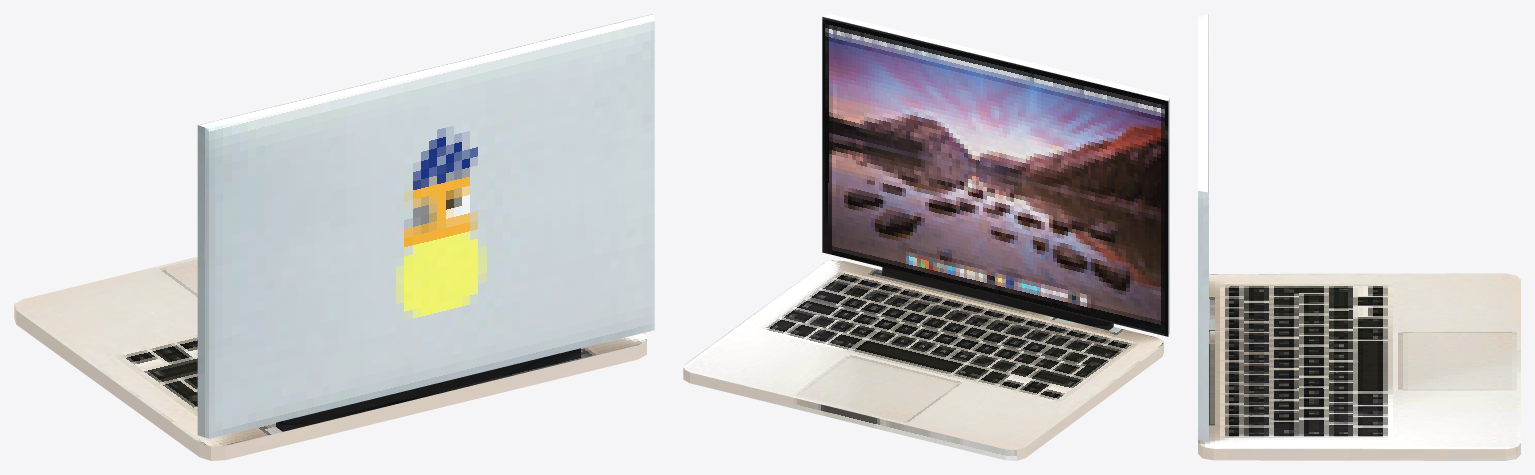
The model's file is macbook_psx_style.glb.
The picture shows the model from 3 angles, left to right: view 1: azimuth 30°, elevation 25°; view 2: azimuth 150°, elevation 25°; view 3: azimuth 270°, elevation 25°; orthographic projection. The views are drawn at different scales.
Visible parts, largest first — view 1: Macbook; view 2: Macbook; view 3: Macbook.
Boxes of the visible parts, left/top/right/bottom form: Macbook: left=14, top=14, right=654, bottom=460; Macbook: left=683, top=14, right=1169, bottom=460; Macbook: left=1198, top=14, right=1520, bottom=460.
Size of the model in its own units: 0.4099 by 0.2887 by 0.3134.
1 material, 1 textured.
